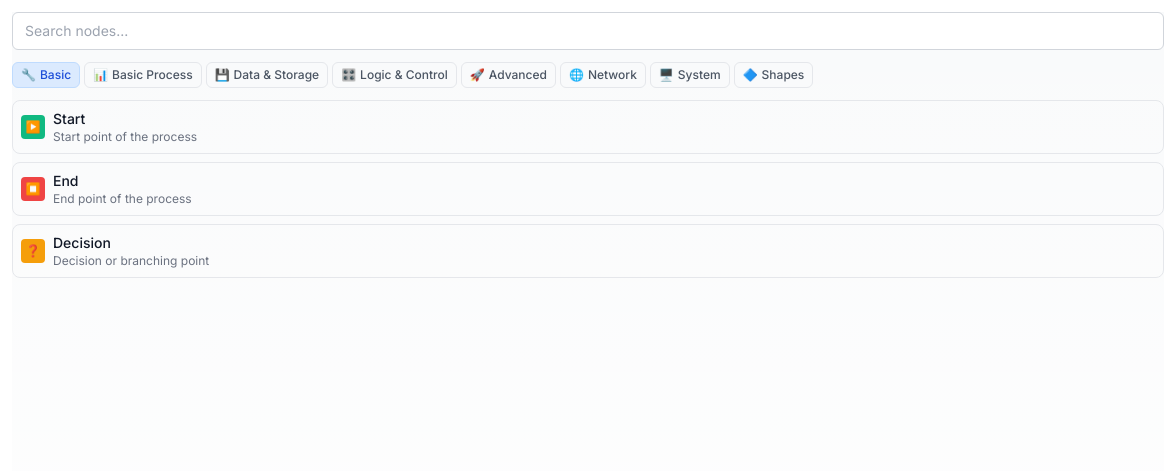
Test case: Enhanced NodePalette › hides category tabs when searching
The image size is (1176, 471).
Expected: the button "🔧Basic" is shown, x1=12 y1=62 x2=80 y2=88
Note: Search for something
Type "process" into the field with placeholder "Search nodes..." at (588, 31), box x1=12 y1=12 x2=1164 y2=50
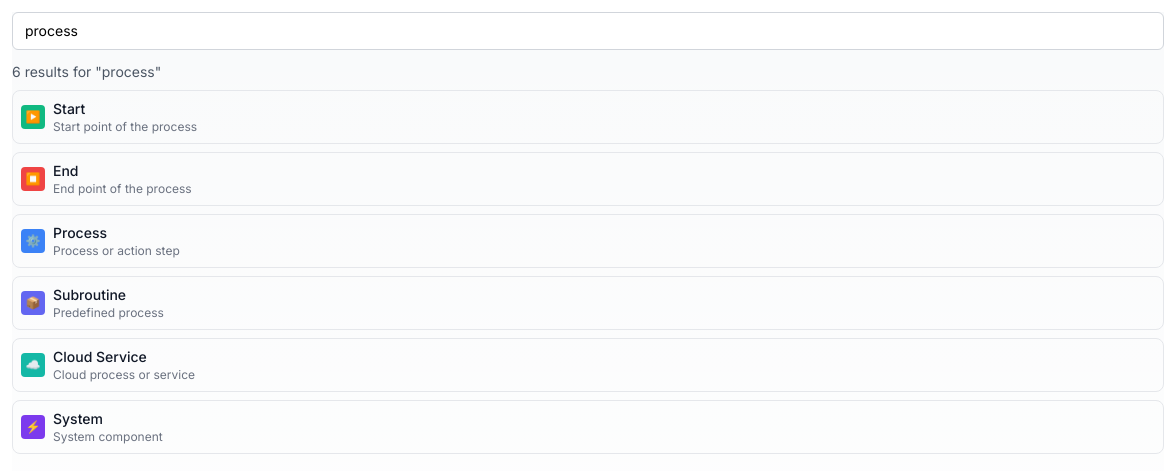
Expected: the button "Basic" is gone
